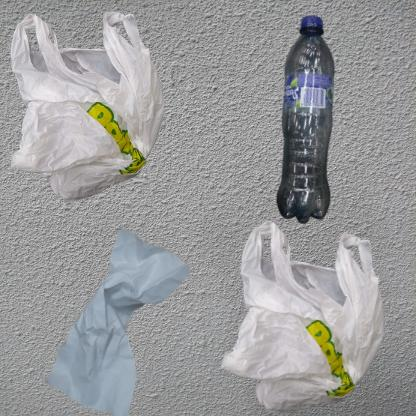bolsa: (213, 213, 410, 416), (10, 10, 165, 203)
botella: (213, 10, 416, 296)
papel: (10, 213, 236, 416)
